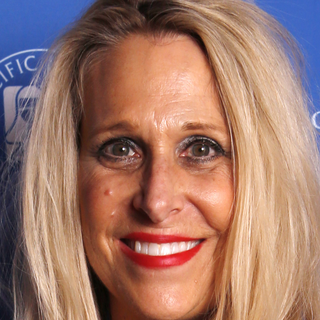eye: (180, 135, 226, 164), (97, 138, 145, 163)
